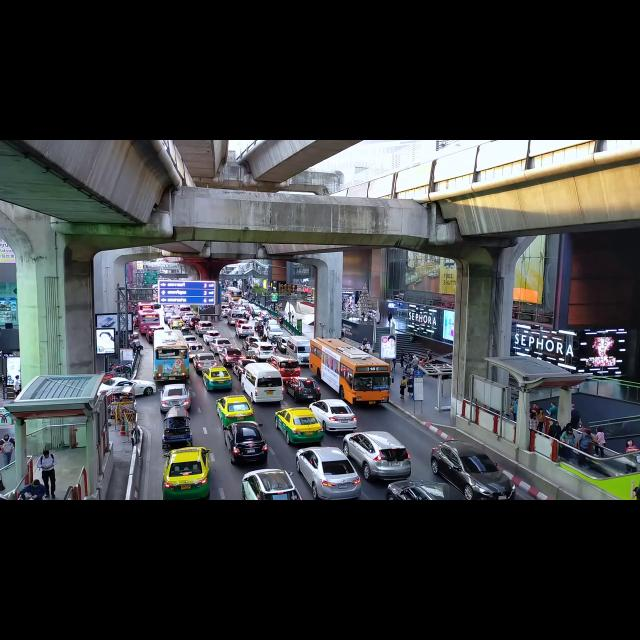bus: (310, 338, 390, 403), (154, 330, 189, 380), (138, 309, 160, 335), (226, 287, 241, 300), (138, 303, 154, 310)
car: (431, 440, 514, 499), (296, 447, 361, 499), (343, 431, 411, 480), (163, 447, 211, 499), (223, 421, 268, 463), (242, 469, 300, 499), (275, 408, 323, 443), (309, 399, 356, 430), (385, 481, 465, 499), (217, 395, 254, 426), (99, 377, 156, 395), (159, 384, 190, 413), (285, 377, 320, 401), (268, 355, 300, 381), (203, 366, 232, 390), (193, 353, 217, 374), (218, 347, 244, 366), (232, 359, 255, 379), (209, 338, 233, 354), (254, 342, 273, 360), (188, 342, 205, 360), (146, 326, 163, 343), (227, 309, 244, 325), (195, 321, 213, 336), (235, 324, 254, 337), (203, 330, 221, 343), (243, 336, 259, 349), (267, 326, 283, 338), (277, 337, 288, 353), (178, 305, 192, 316), (166, 314, 181, 324), (187, 317, 200, 328), (265, 319, 279, 329), (169, 320, 183, 329), (183, 334, 198, 342), (182, 312, 194, 322), (235, 318, 248, 327), (164, 312, 173, 323), (221, 307, 230, 317), (251, 306, 260, 316), (169, 315, 181, 322), (180, 326, 190, 334), (163, 305, 174, 312), (259, 310, 269, 317)
motorcycle: (111, 363, 132, 373), (129, 339, 143, 352)
